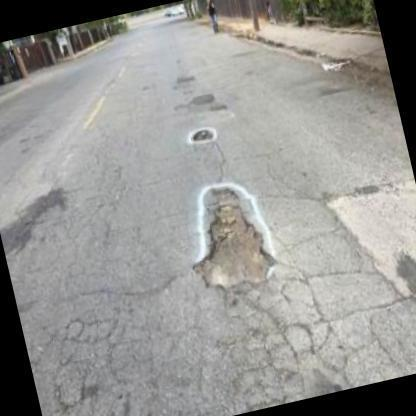pothole: (188, 181, 288, 298), (319, 180, 416, 300), (188, 126, 219, 148)
